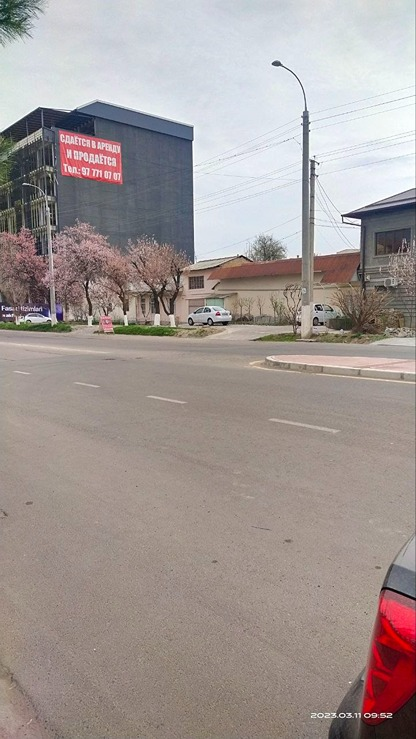car: (187, 305, 231, 329), (299, 303, 338, 324), (18, 308, 51, 327)
tree: (43, 220, 111, 320), (138, 238, 192, 326), (1, 224, 45, 303), (103, 248, 141, 320)
